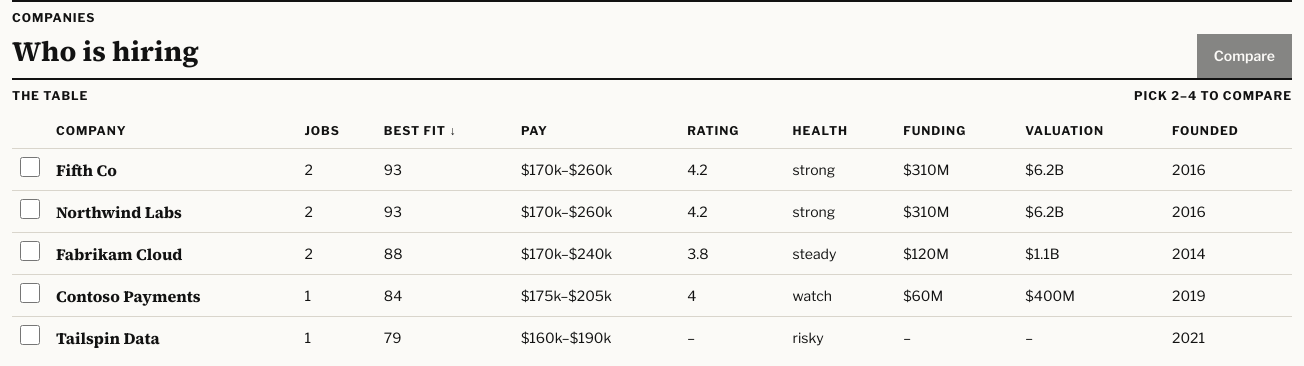
Test: CompaniesPage › enables Compare at two picks and stops at four
Check: the button "Compare" is disabled, box x1=1197 y1=34 x2=1292 y2=78
Click the checkbox named "Compare Northwind Labs" at [30, 209], box x1=20 y1=199 x2=40 y2=219
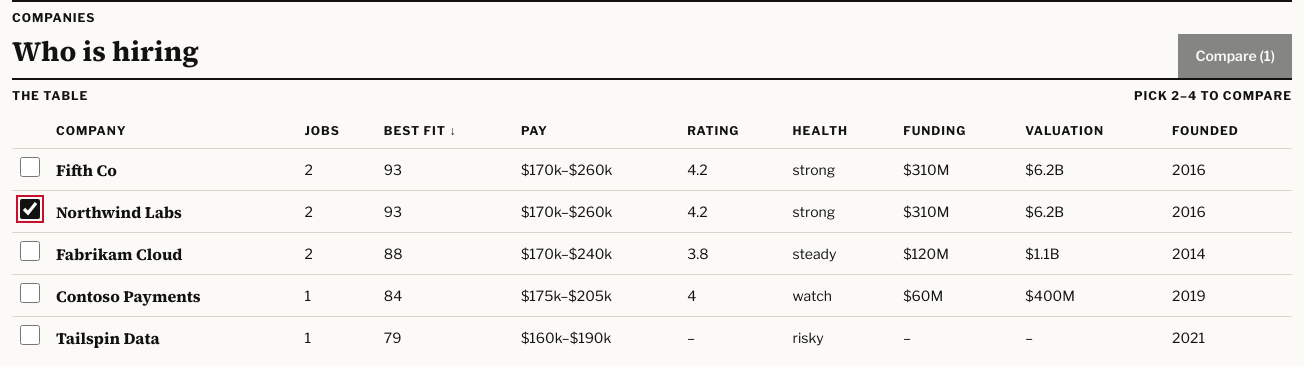
Click the checkbox named "Compare Fabrikam Cloud" at [30, 251], box x1=20 y1=241 x2=40 y2=261
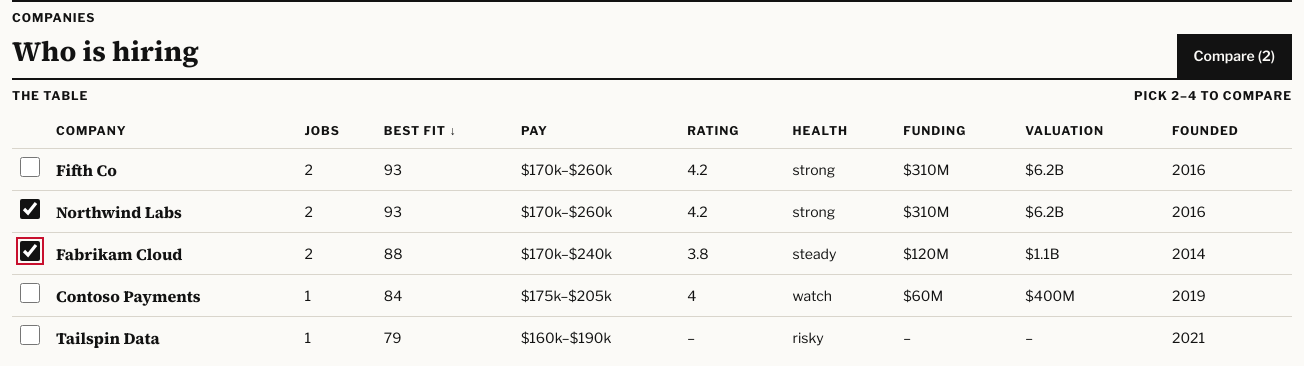
Check: the button "Compare (2)" is enabled, box x1=1176 y1=34 x2=1292 y2=78
Click the checkbox named "Compare Contoso Payments" at [30, 293], box x1=20 y1=283 x2=40 y2=303
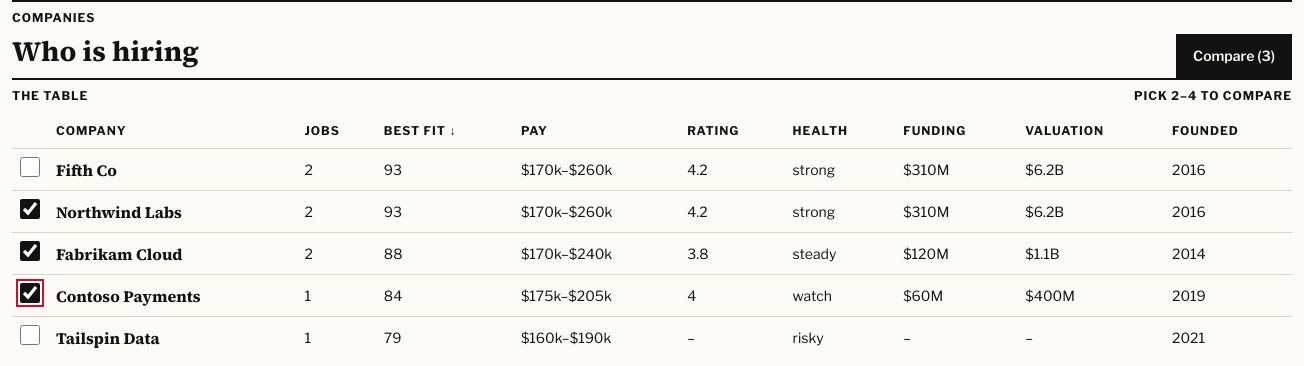
Click the checkbox named "Compare Tailspin Data" at [30, 335], box x1=20 y1=325 x2=40 y2=345
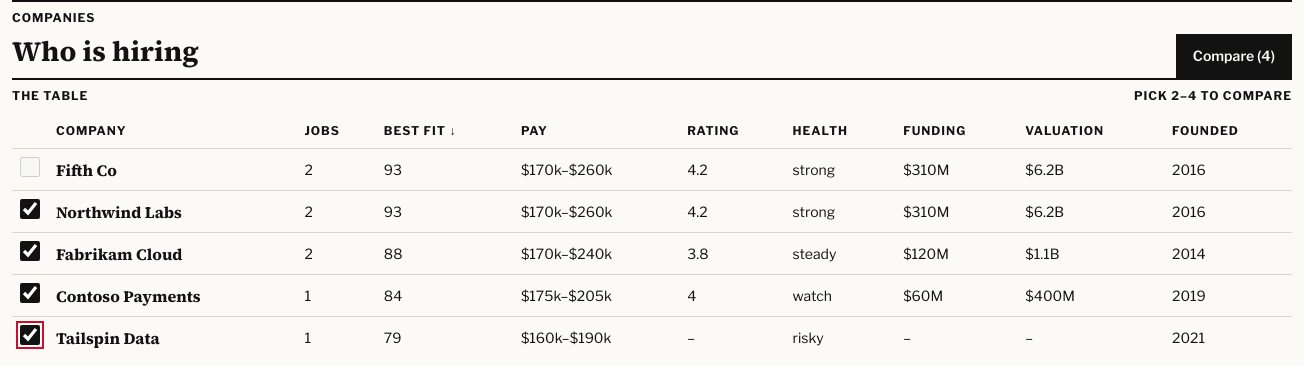
Check: the checkbox named "Compare Fifth Co" is disabled, box x1=20 y1=157 x2=40 y2=177
